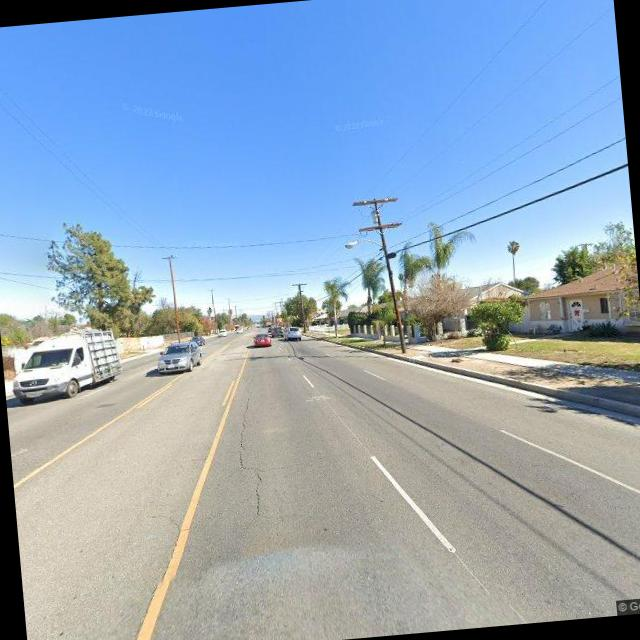pothole: (232, 372, 276, 530)
